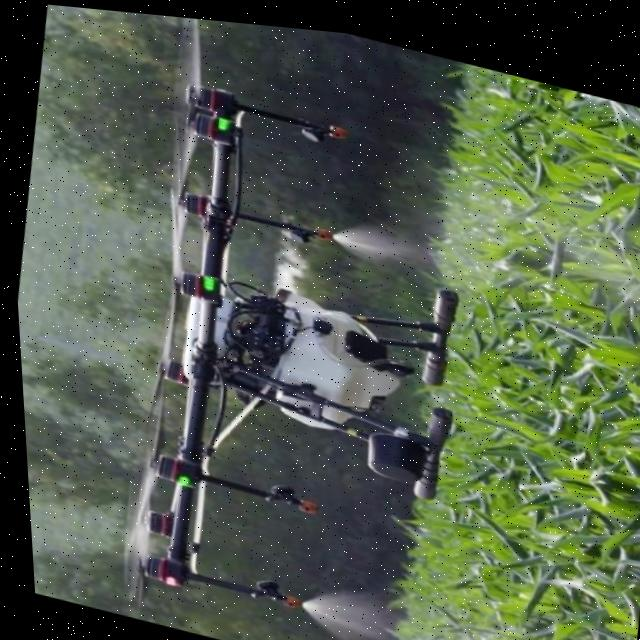drones: (28, 2, 606, 640)
